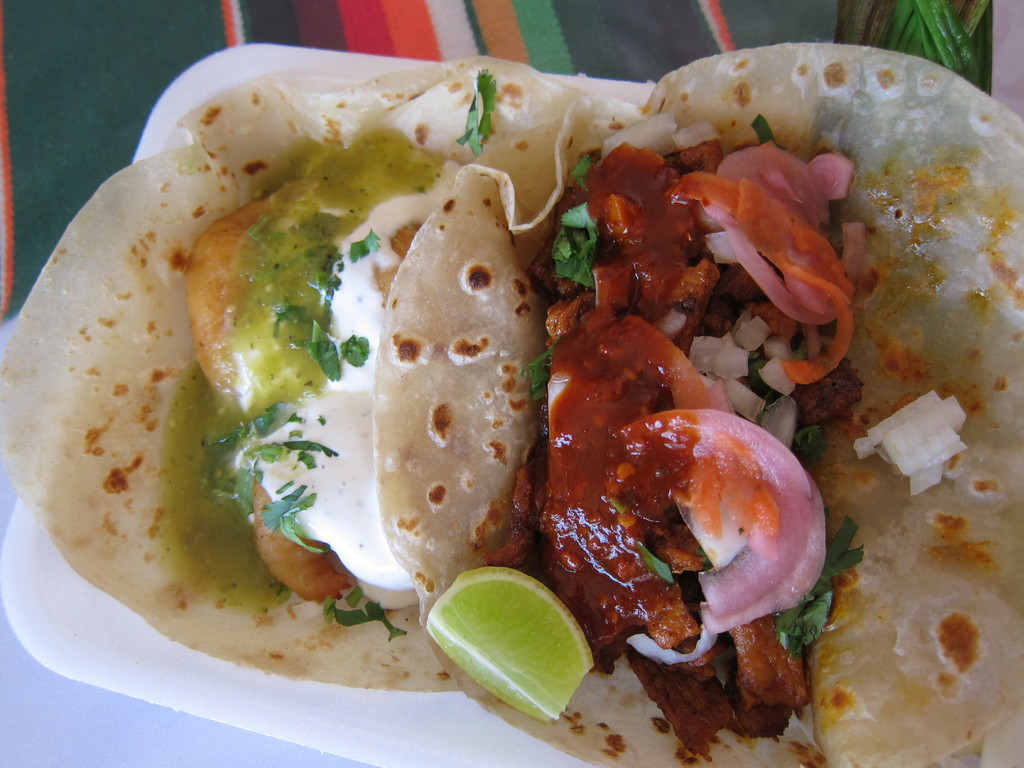taco: (363, 43, 1023, 767), (64, 118, 579, 671)
